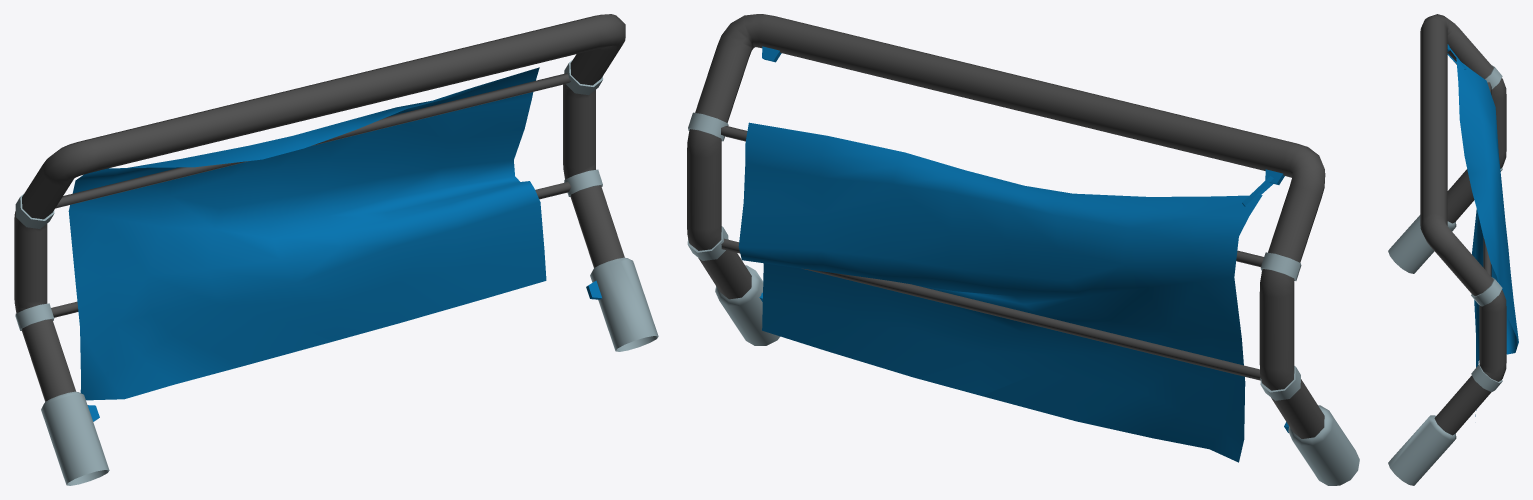
The model's file is env_building_warehouse01fence01B_lod0.fbx.
3 renders of one model, left to right at view 1: azimuth 30°, elevation 25°; view 2: azimuth 150°, elevation 25°; view 3: azimuth 270°, elevation 25°, orthographic. The views are drawn at different scales.
Parts seen in each view (by area): view 1: env_building_warehouse01fence01B_lod0; view 2: env_building_warehouse01fence01B_lod0; view 3: env_building_warehouse01fence01B_lod0.
Part boxes in pixels (<box>): env_building_warehouse01fence01B_lod0: <box>14,14,658,485</box>; env_building_warehouse01fence01B_lod0: <box>687,14,1359,485</box>; env_building_warehouse01fence01B_lod0: <box>1388,14,1518,485</box>.
Size of the model in its own units: 61.93 by 33.23 by 15.08.
